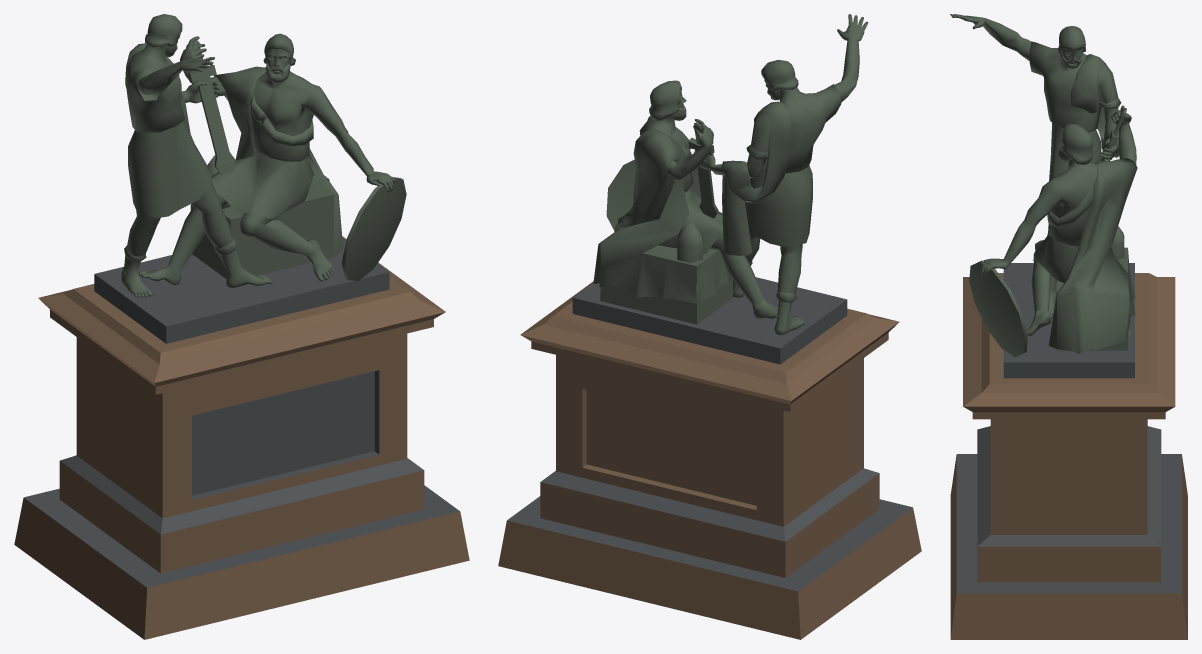
File: Минин и Пожарский.fbx
3 views of the same model, side by side, from view 1: azimuth 30°, elevation 25°; view 2: azimuth 150°, elevation 25°; view 3: azimuth 270°, elevation 25° (orthographic). The views are drawn at different scales.
Visible parts, largest first — view 1: 5_lvl1, 5_lvl2, 5_lvl3, 5_lvl5, 5_lvl4; view 2: 5_lvl1, 5_lvl2, 5_lvl3, 5_lvl5, 5_lvl4; view 3: 5_lvl1, 5_lvl2, 5_lvl3, 5_lvl5.
Boxes of the visible parts, <box> form: 5_lvl1: <box>14,236,469,639</box>; 5_lvl2: <box>139,33,394,285</box>; 5_lvl3: <box>121,14,272,297</box>; 5_lvl5: <box>341,177,406,281</box>; 5_lvl4: <box>187,40,235,174</box>; 5_lvl1: <box>498,277,921,639</box>; 5_lvl2: <box>593,80,790,324</box>; 5_lvl3: <box>694,14,868,335</box>; 5_lvl5: <box>606,159,700,230</box>; 5_lvl4: <box>688,122,718,218</box>; 5_lvl1: <box>950,263,1187,639</box>; 5_lvl2: <box>980,105,1137,353</box>; 5_lvl3: <box>950,14,1121,317</box>; 5_lvl5: <box>969,260,1027,357</box>.
Bounding box in the file's own units: 485 × 801 × 337.
